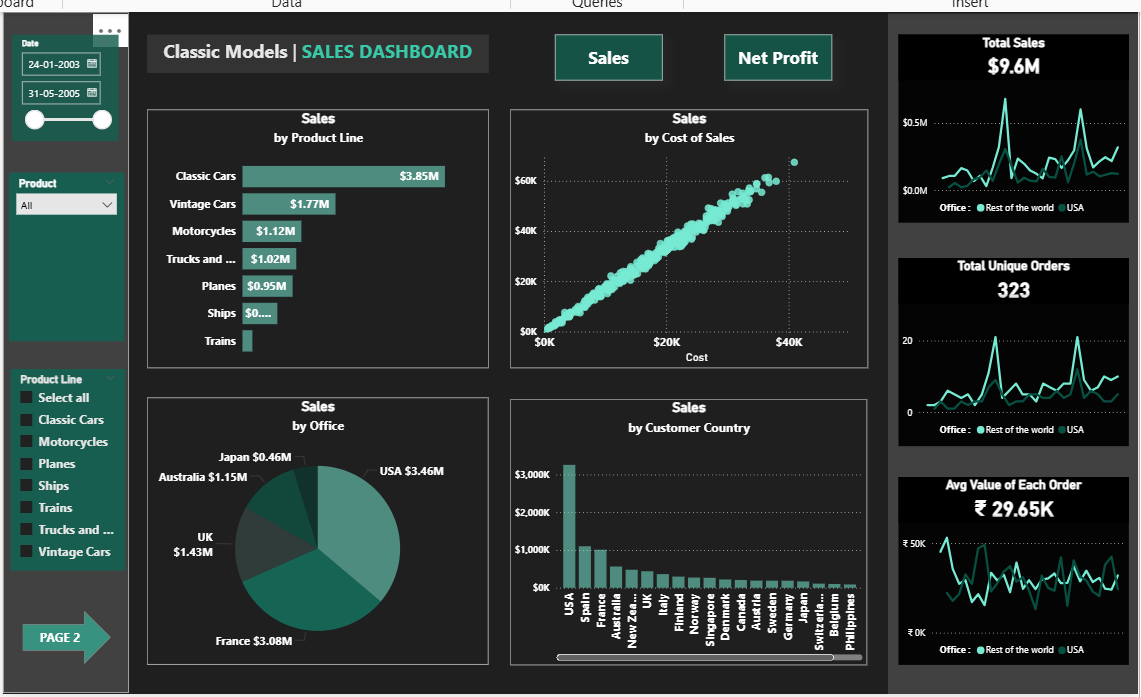

The dashboard page shown, as its layout file describes it:
{"tool":"powerbi","page":{"name":"Sales Overview - Page 1","canvas":[1500,900],"ordinal":0},"visuals":[{"type":"shape","box":[0,0,166.1,898.9],"z":0},{"type":"shape","box":[1168.4,1.8,332.2,898.9],"z":1000},{"type":"shape","box":[1182.8,28.7,304.1,248.4],"z":2000},{"type":"shape","box":[1182.8,613.3,304.1,248],"z":3000},{"type":"shape","box":[1182.8,324.4,304.1,248.4],"z":4000},{"type":"card","title":"Total Unique Orders","fields":{"Values":["Count(classicmodels sales_data_for_power_bi.orderNumber)"]},"box":[1182.8,324.4,304.1,60.8],"z":5000},{"type":"card","title":"Total Sales","fields":{"Values":["Sum(classicmodels sales_data_for_power_bi.sales_value)"]},"box":[1182.8,28.7,304.1,60.8],"z":6000},{"type":"card","title":"Avg Value of Each Order","fields":{"Values":["classicmodels sales_data_for_power_bi.Avg Sales per order"]},"box":[1182.8,613.3,304,60.8],"z":7000},{"type":"lineChart","fields":{"Y":["Sum(classicmodels sales_data_for_power_bi.sales_value)"],"Series":["classicmodels sales_data_for_power_bi.Office Grouped"],"Category":["Date.Date.Variation.Date Hierarchy.Year","Date.Date.Variation.Date Hierarchy.Quarter","Date.Date.Variation.Date Hierarchy.Month"]},"box":[1182.8,79.4,304.1,197.7],"z":8000},{"type":"lineChart","fields":{"Series":["classicmodels sales_data_for_power_bi.Office Grouped"],"Y":["Count(classicmodels sales_data_for_power_bi.orderNumber)"],"Category":["Date.Date.Variation.Date Hierarchy.Year","Date.Date.Variation.Date Hierarchy.Quarter","Date.Date.Variation.Date Hierarchy.Month"]},"box":[1182.8,371.7,304.1,197.7],"z":9000},{"type":"lineChart","fields":{"Series":["classicmodels sales_data_for_power_bi.Office Grouped"],"Y":["classicmodels sales_data_for_power_bi.Avg Sales per order"],"Category":["Date.Date.Variation.Date Hierarchy.Year","Date.Date.Variation.Date Hierarchy.Quarter","Date.Date.Variation.Date Hierarchy.Month"]},"box":[1182.8,664,304.1,197.7],"z":10000},{"type":"actionButton","box":[728.2,28.7,141.9,60.8],"z":11000},{"type":"actionButton","box":[953,28.7,141.9,60.8],"z":12000},{"type":"clusteredBarChart","fields":{"Y":["Table.Selected Metric"],"Category":["classicmodels sales_data_for_power_bi.productLine"]},"box":[190.9,128.4,451.1,341],"z":13000},{"type":"pieChart","fields":{"Y":["Table.Selected Metric"],"Category":["classicmodels sales_data_for_power_bi.office_country"]},"box":[190.1,509.4,450.4,352.5],"z":15000},{"type":"scatterChart","fields":{"Category":["classicmodels sales_data_for_power_bi.orderNumber"],"Y":["Table.Selected Metric"],"X":["Sum(classicmodels sales_data_for_power_bi.cost_sales)"]},"box":[668.2,129.2,472.5,341.5],"z":16000},{"type":"columnChart","fields":{"Category":["classicmodels sales_data_for_power_bi.cust_country"],"Y":["Table.Selected Metric"]},"box":[669.1,510.3,471.4,351.4],"z":17000},{"type":"textbox","box":[190.9,28.7,451.1,50.7],"z":18000},{"type":"slicer","fields":{"Values":["Date.Date"]},"box":[12.4,28.9,140.4,140.4],"z":19000},{"type":"slicer","fields":{"Values":["classicmodels sales_data_for_power_bi.productName"]},"box":[8.3,212.5,152.1,222.9],"z":20000},{"type":"slicer","fields":{"Values":["classicmodels sales_data_for_power_bi.productLine"]},"box":[9.2,470.7,151.4,265.8],"z":21000},{"type":"shape","box":[25,789.6,116.7,70.8],"z":22000}]}

Visuals, with their boxes on the page's 1500x900 design canvas (x1, y1, x2, y2). These are canvas units, not pixel positions in the 1141x697 screenshot, which may show the page scaled, cropped or inside an application window:
shape: bbox=(0, 0, 166, 899)
shape: bbox=(1168, 2, 1501, 901)
shape: bbox=(1183, 29, 1487, 277)
shape: bbox=(1183, 613, 1487, 861)
shape: bbox=(1183, 324, 1487, 573)
"Total Unique Orders" card: bbox=(1183, 324, 1487, 385)
"Total Sales" card: bbox=(1183, 29, 1487, 90)
"Avg Value of Each Order" card: bbox=(1183, 613, 1487, 674)
lineChart - Sum(classicmodels sales_data_for_power_bi.sales_value) x classicmodels sales_data_for_power_bi.Office Grouped: bbox=(1183, 79, 1487, 277)
lineChart - classicmodels sales_data_for_power_bi.Office Grouped x Count(classicmodels sales_data_for_power_bi.orderNumber): bbox=(1183, 372, 1487, 569)
lineChart - classicmodels sales_data_for_power_bi.Office Grouped x classicmodels sales_data_for_power_bi.Avg Sales per order: bbox=(1183, 664, 1487, 862)
actionButton: bbox=(728, 29, 870, 90)
actionButton: bbox=(953, 29, 1095, 90)
clusteredBarChart - Table.Selected Metric x classicmodels sales_data_for_power_bi.productLine: bbox=(191, 128, 642, 469)
pieChart - Table.Selected Metric x classicmodels sales_data_for_power_bi.office_country: bbox=(190, 509, 640, 862)
scatterChart - classicmodels sales_data_for_power_bi.orderNumber x Table.Selected Metric: bbox=(668, 129, 1141, 471)
columnChart - classicmodels sales_data_for_power_bi.cust_country x Table.Selected Metric: bbox=(669, 510, 1140, 862)
textbox: bbox=(191, 29, 642, 79)
slicer - Date.Date: bbox=(12, 29, 153, 169)
slicer - classicmodels sales_data_for_power_bi.productName: bbox=(8, 212, 160, 435)
slicer - classicmodels sales_data_for_power_bi.productLine: bbox=(9, 471, 161, 736)
shape: bbox=(25, 790, 142, 860)
